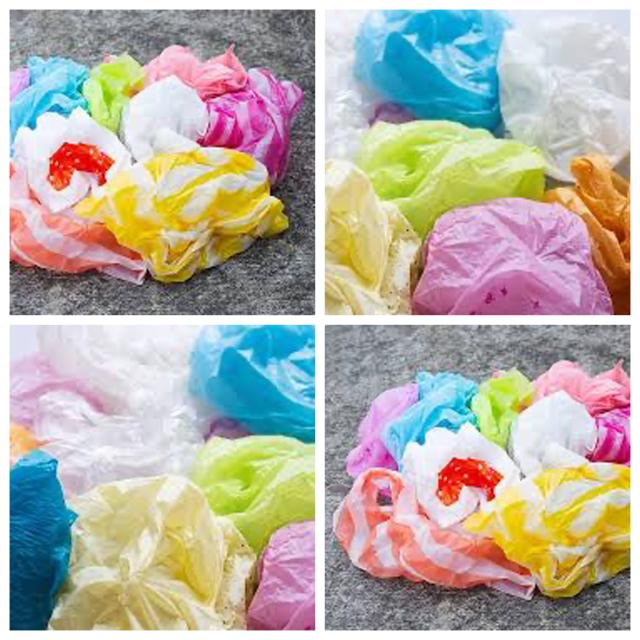Single-layer Plastic: (10, 326, 202, 498), (49, 475, 255, 630), (75, 148, 289, 282), (334, 468, 535, 599), (414, 199, 612, 314), (358, 120, 548, 239), (464, 462, 630, 598), (499, 11, 630, 181), (355, 10, 509, 134), (10, 160, 146, 285), (325, 159, 421, 315), (191, 435, 315, 554), (190, 325, 315, 442), (546, 155, 630, 315), (401, 424, 520, 527), (14, 109, 131, 212), (199, 69, 302, 184), (10, 450, 76, 629), (382, 371, 478, 464), (120, 75, 209, 160), (10, 56, 89, 151), (509, 390, 596, 476), (325, 10, 374, 160), (248, 521, 315, 630), (346, 382, 419, 478), (144, 45, 248, 101), (532, 360, 630, 416), (82, 52, 144, 134), (471, 368, 532, 449), (588, 407, 630, 464)
